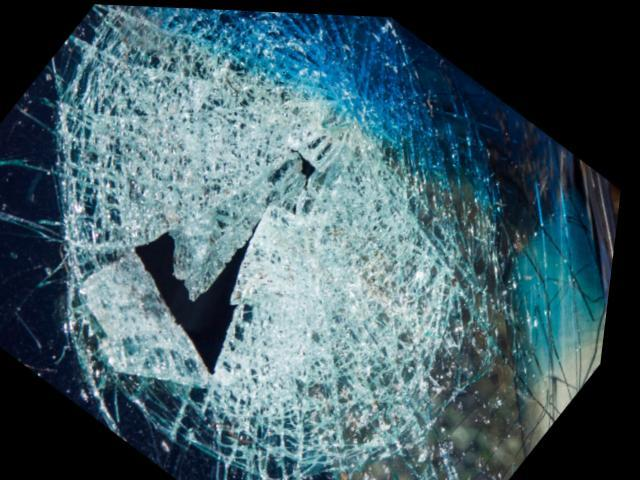glass shatter: (0, 3, 619, 480)
